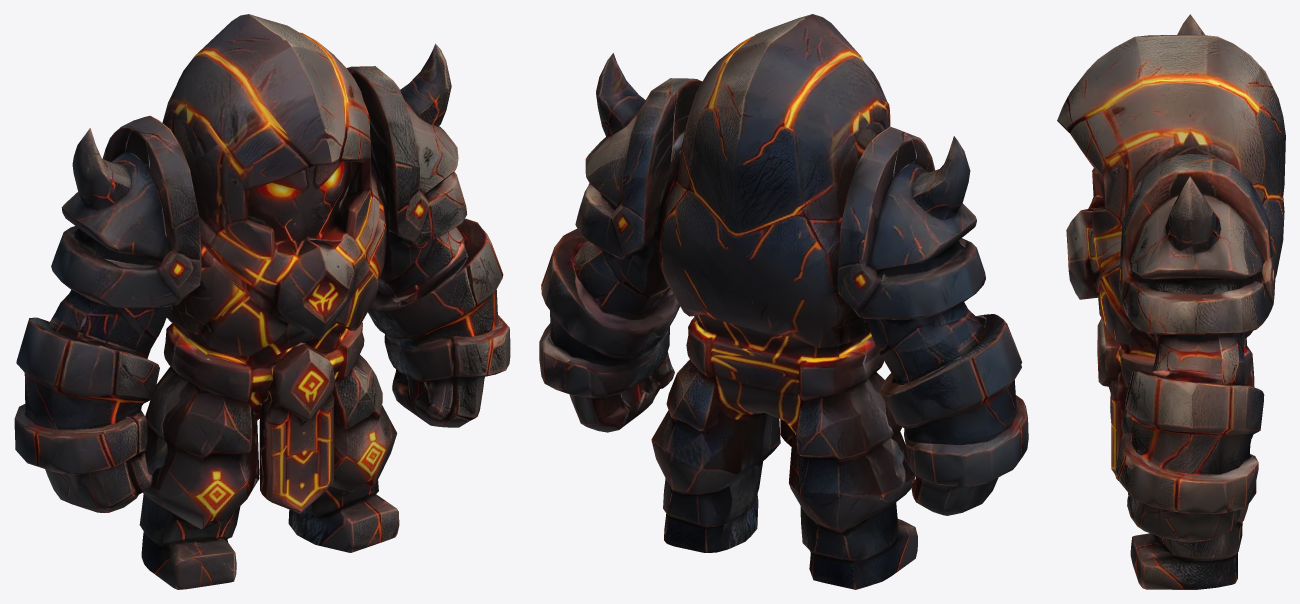
The model's file is golemModelPortfolio-transformed.glb.
3 views of the same model, side by side, from view 1: azimuth 30°, elevation 25°; view 2: azimuth 150°, elevation 25°; view 3: azimuth 270°, elevation 25° (orthographic). The views are drawn at different scales.
Visible parts, largest first — view 1: input; view 2: input; view 3: input.
Part boxes in pixels (x1=…): input: x1=14, y1=14, x2=510, y2=589; input: x1=539, y1=14, x2=1028, y2=589; input: x1=1057, y1=14, x2=1285, y2=589.
Bounding box in the file's own units: 0.9437 × 0.999 × 0.4116.
Materials: 1 (1 with a texture image).
